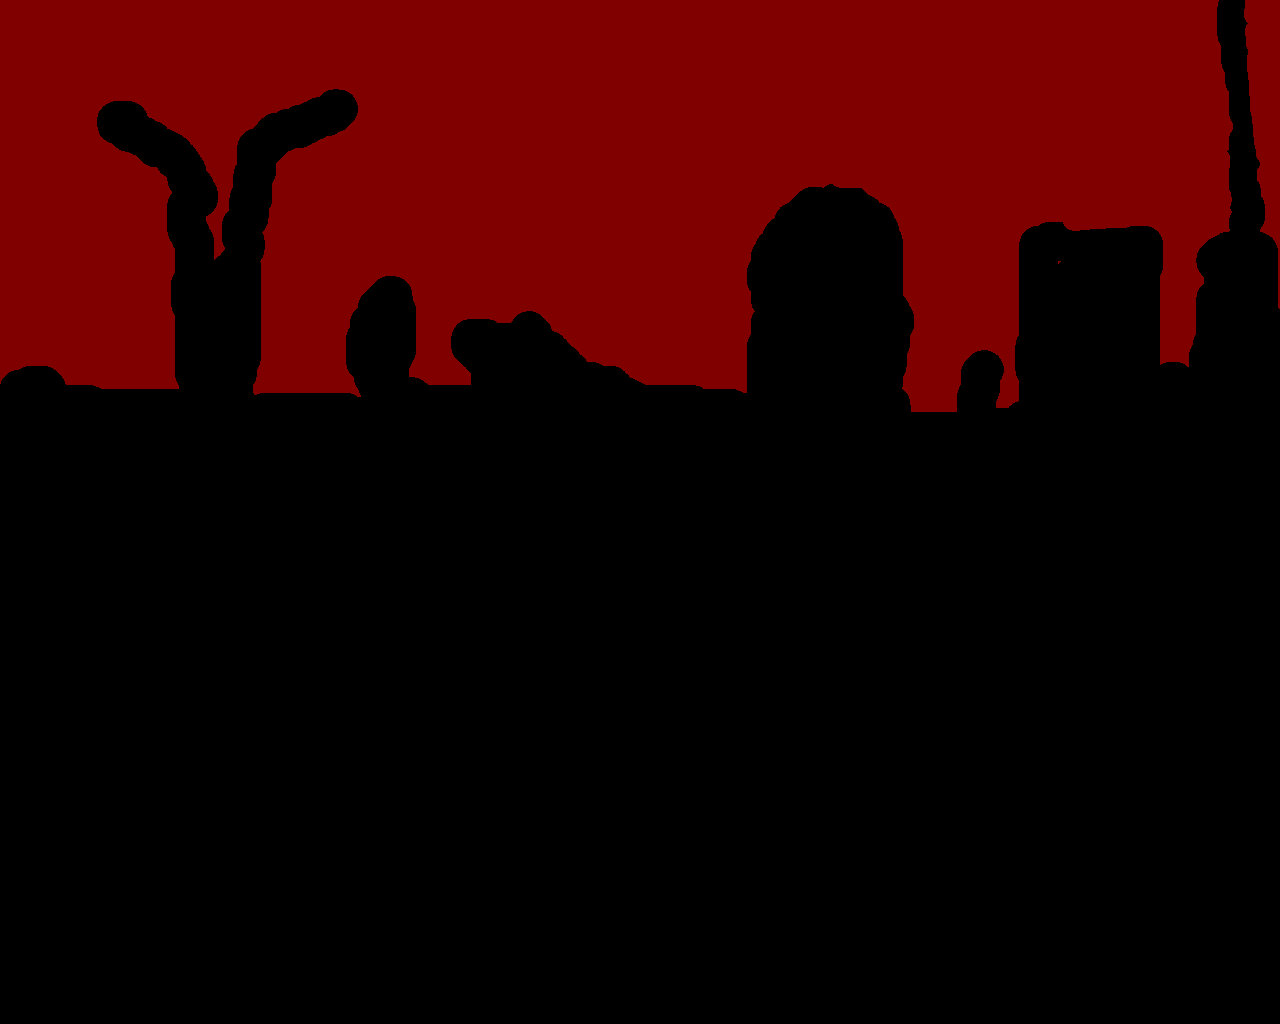Sky: (1, 1, 1279, 412)
